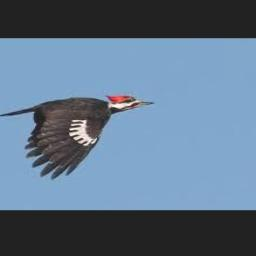Woodpecker: (0, 95, 152, 179)
